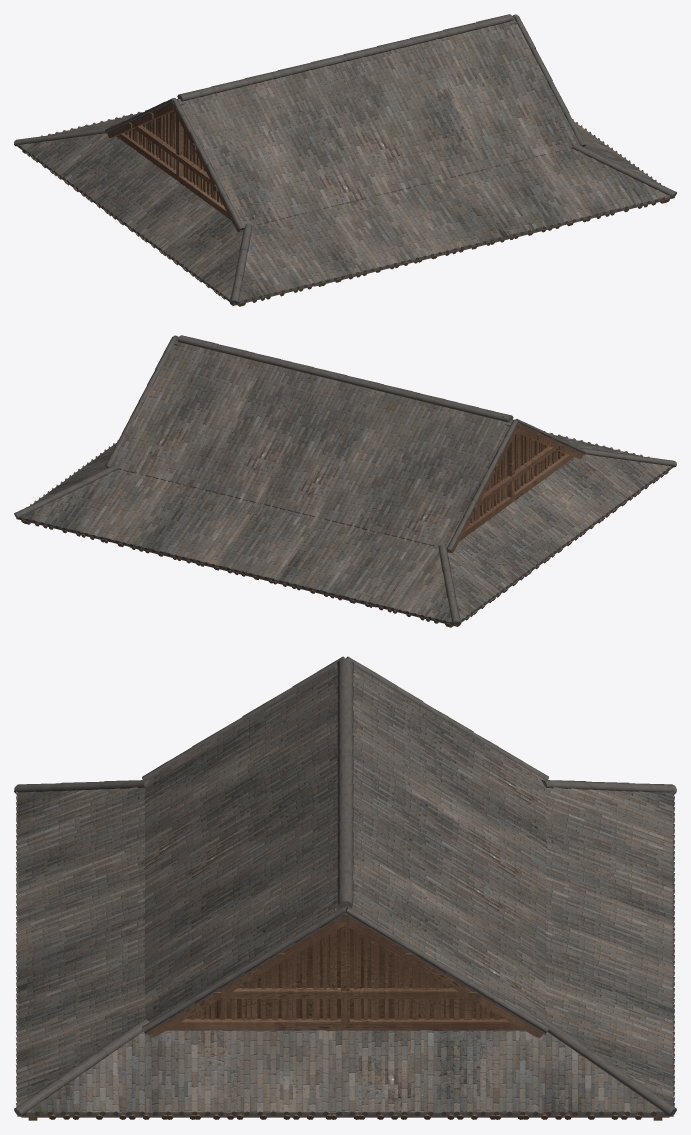
File: CourtMainRoof.fbx
The picture shows the model from 3 angles, top to bottom: view 1: azimuth 30°, elevation 25°; view 2: azimuth 150°, elevation 25°; view 3: azimuth 270°, elevation 25°; orthographic projection. The views are drawn at different scales.
Parts seen in each view (by area): view 1: CourtMainRoof_Tier0, CourtMainRoof_Tier1, CourtMainRoof_Tier2; view 2: CourtMainRoof_Tier0, CourtMainRoof_Tier1, CourtMainRoof_Tier2; view 3: CourtMainRoof_Tier0, CourtMainRoof_Tier1, CourtMainRoof_Tier2.
Boxes of the visible parts, bbox=[...] form: CourtMainRoof_Tier0: bbox=[14, 14, 676, 306]; CourtMainRoof_Tier1: bbox=[14, 14, 676, 306]; CourtMainRoof_Tier2: bbox=[21, 15, 676, 305]; CourtMainRoof_Tier0: bbox=[14, 335, 676, 627]; CourtMainRoof_Tier1: bbox=[14, 335, 676, 627]; CourtMainRoof_Tier2: bbox=[14, 335, 674, 626]; CourtMainRoof_Tier0: bbox=[14, 656, 676, 1120]; CourtMainRoof_Tier1: bbox=[15, 657, 676, 1120]; CourtMainRoof_Tier2: bbox=[14, 656, 675, 1117].
Bounding box in the file's own units: 19.4 × 5.54 × 16.57.
